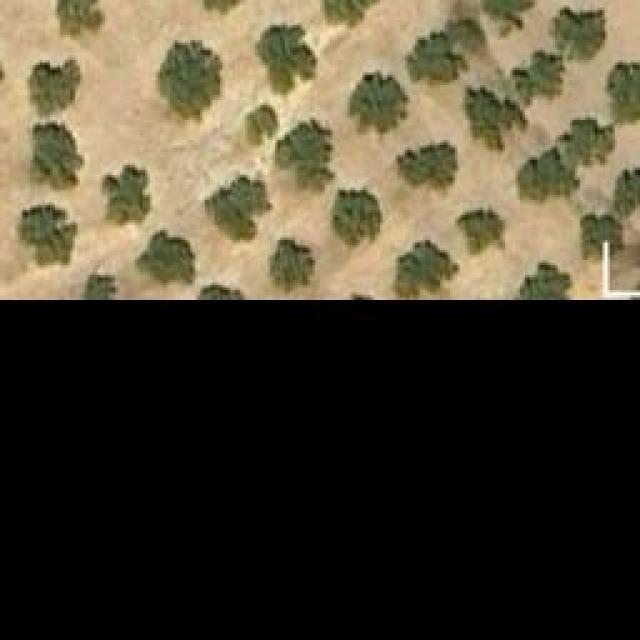Tree: (405, 18, 485, 88), (160, 40, 223, 120), (203, 173, 273, 243), (345, 70, 410, 143), (255, 23, 318, 96), (277, 118, 335, 193), (465, 88, 528, 153), (392, 240, 460, 298), (18, 200, 78, 263), (30, 122, 85, 190), (135, 227, 198, 285), (100, 163, 153, 228), (333, 188, 383, 248), (28, 60, 81, 115), (523, 145, 576, 198), (563, 113, 616, 166), (270, 237, 315, 295), (397, 143, 455, 188), (553, 8, 603, 58), (455, 207, 505, 255), (518, 50, 568, 98), (607, 62, 640, 125), (512, 263, 570, 298), (320, 0, 385, 28), (243, 103, 283, 148), (58, 0, 103, 35), (488, 0, 533, 35), (615, 165, 640, 215), (198, 280, 248, 301), (83, 273, 118, 298)
